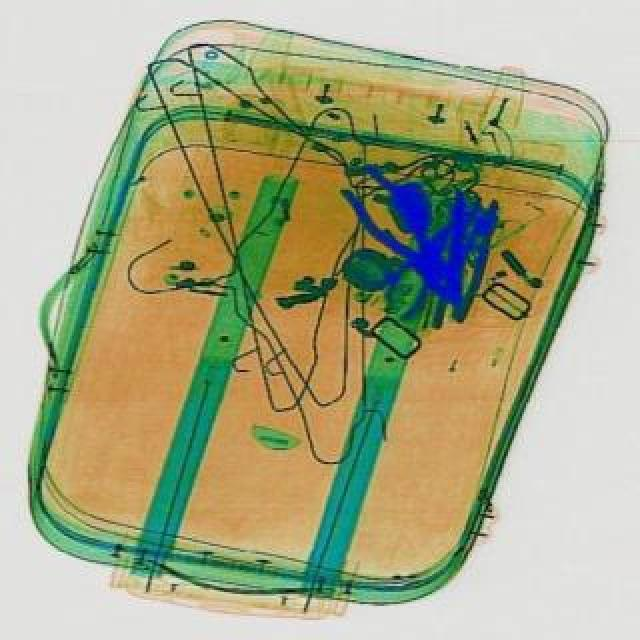wrench: (330, 158, 480, 314), (426, 194, 508, 334), (370, 212, 470, 324)
